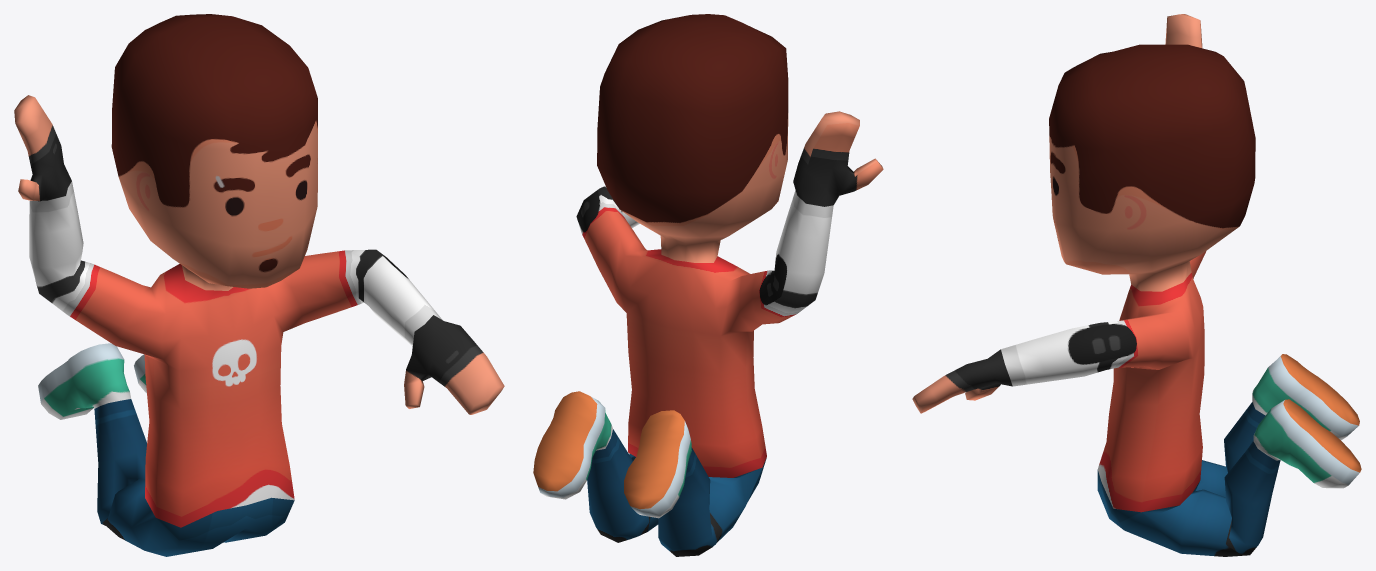
Rendered from dad_seated.glb.
The picture shows the model from 3 angles, left to right: view 1: azimuth 30°, elevation 25°; view 2: azimuth 150°, elevation 25°; view 3: azimuth 270°, elevation 25°; orthographic projection. The views are drawn at different scales.
Parts seen in each view (by area): view 1: characterMedium; view 2: characterMedium; view 3: characterMedium.
Part boxes in pixels (<box>): characterMedium: <box>14,14,504,556</box>; characterMedium: <box>533,14,883,556</box>; characterMedium: <box>912,14,1361,556</box>.
Bounding box in the file's own units: 0.8318 × 1.16 × 0.9723.
Materials: 1 (1 with a texture image).
